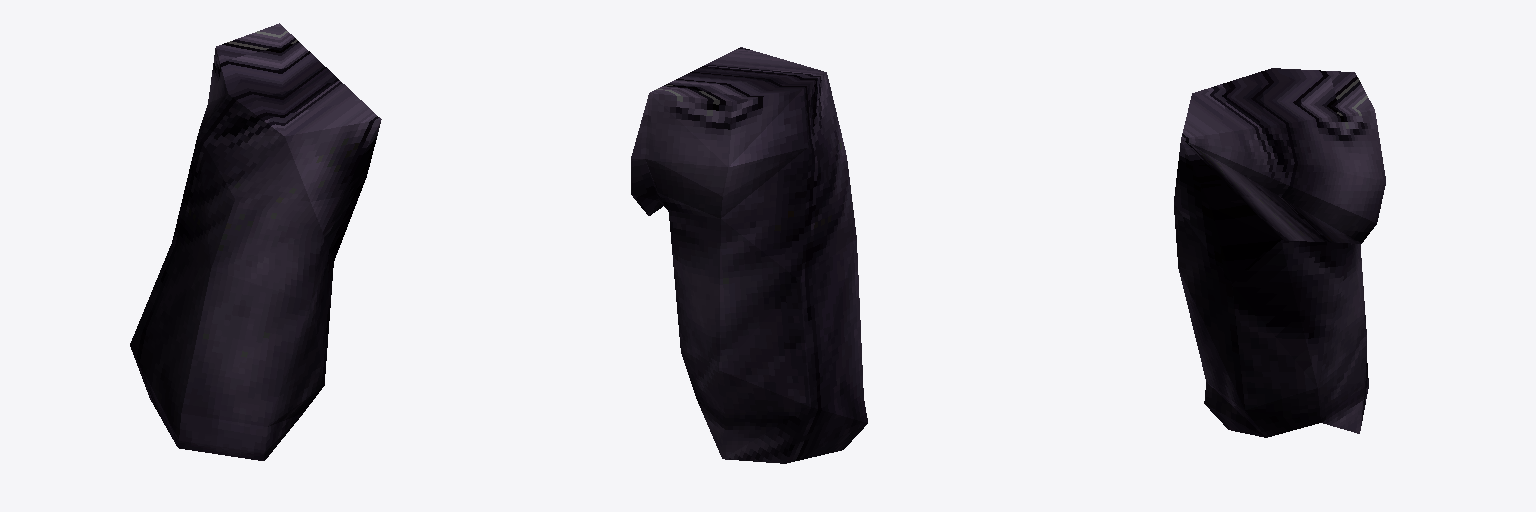
3 renders of one model, left to right at view 1: azimuth 30°, elevation 25°; view 2: azimuth 150°, elevation 25°; view 3: azimuth 270°, elevation 25°, orthographic.
Visible parts, largest first — view 1: 0001_r_sym307; view 2: 0001_r_sym307; view 3: 0001_r_sym307.
Part boxes in pixels (x1,y1,x2,y2): 0001_r_sym307: (130,23,381,460); 0001_r_sym307: (631,47,867,463); 0001_r_sym307: (1174,68,1385,437).
Size of the model in its own units: 0.1486 by 0.2922 by 0.1544.
1 materials, 1 textured.